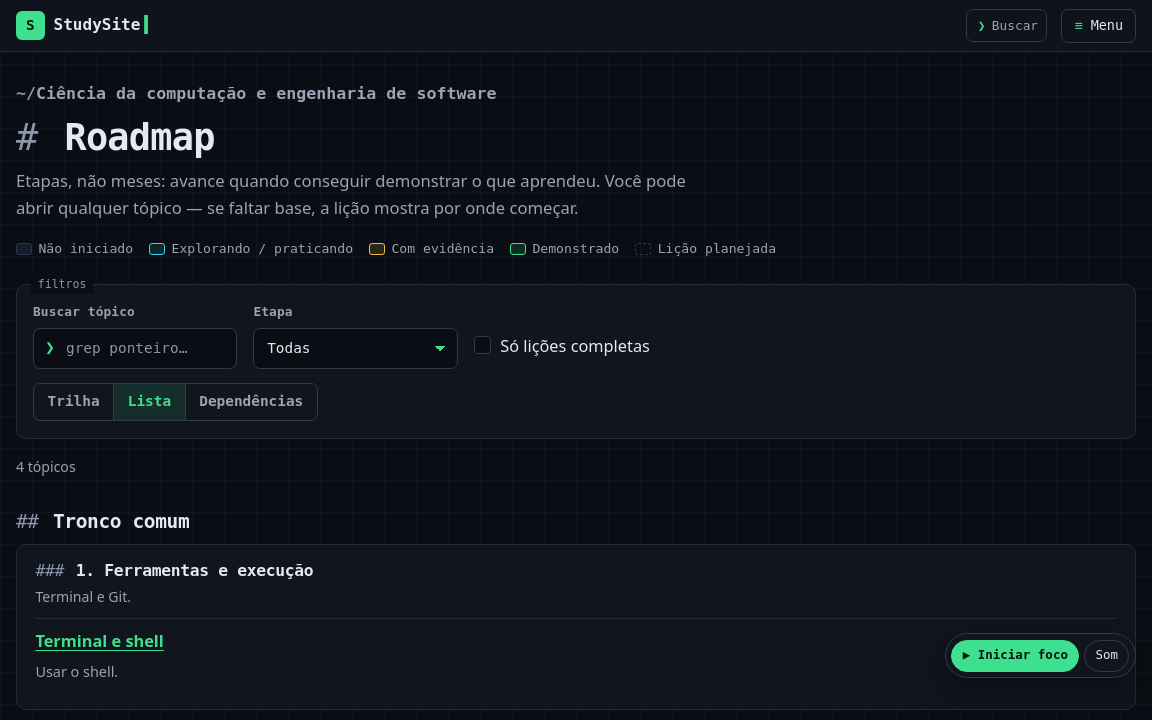
roadmap — lista (?visao=lista) › busca sem diferenciar acentos
Type "compilacao" into the search field labelled "Buscar tópico". click: (135, 348)
box: [33,328,237,369]
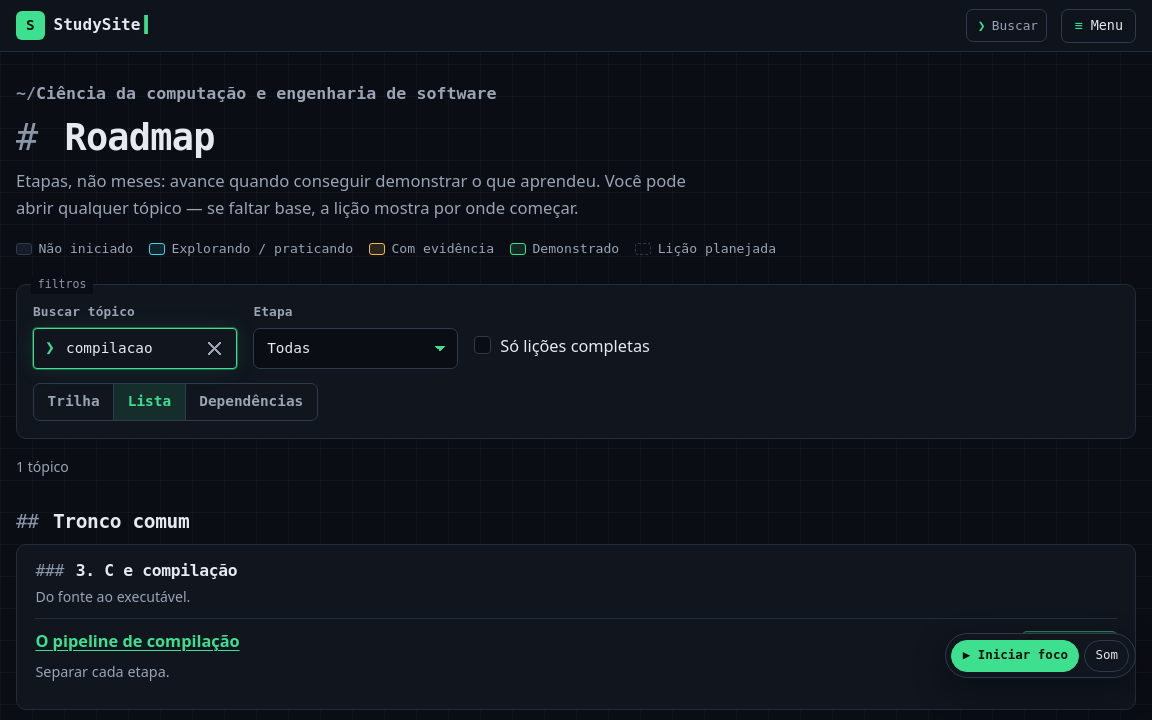
Check: the link "O pipeline de compilação" is shown, box [35,628,240,655]
Check: the link "Terminal e shell" is gone
Check: the message reads "1 tópico", box [16,457,69,476]
